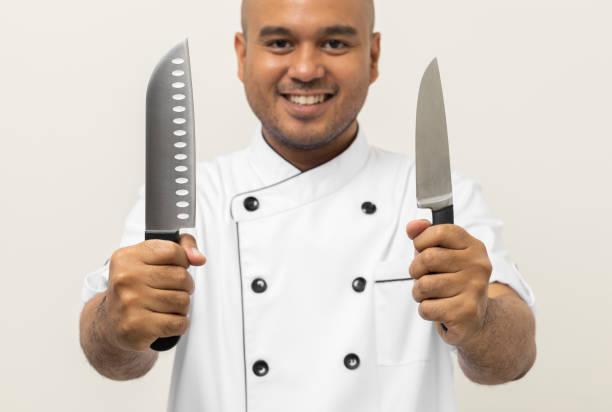knife: (143, 36, 198, 353), (412, 55, 456, 227)
